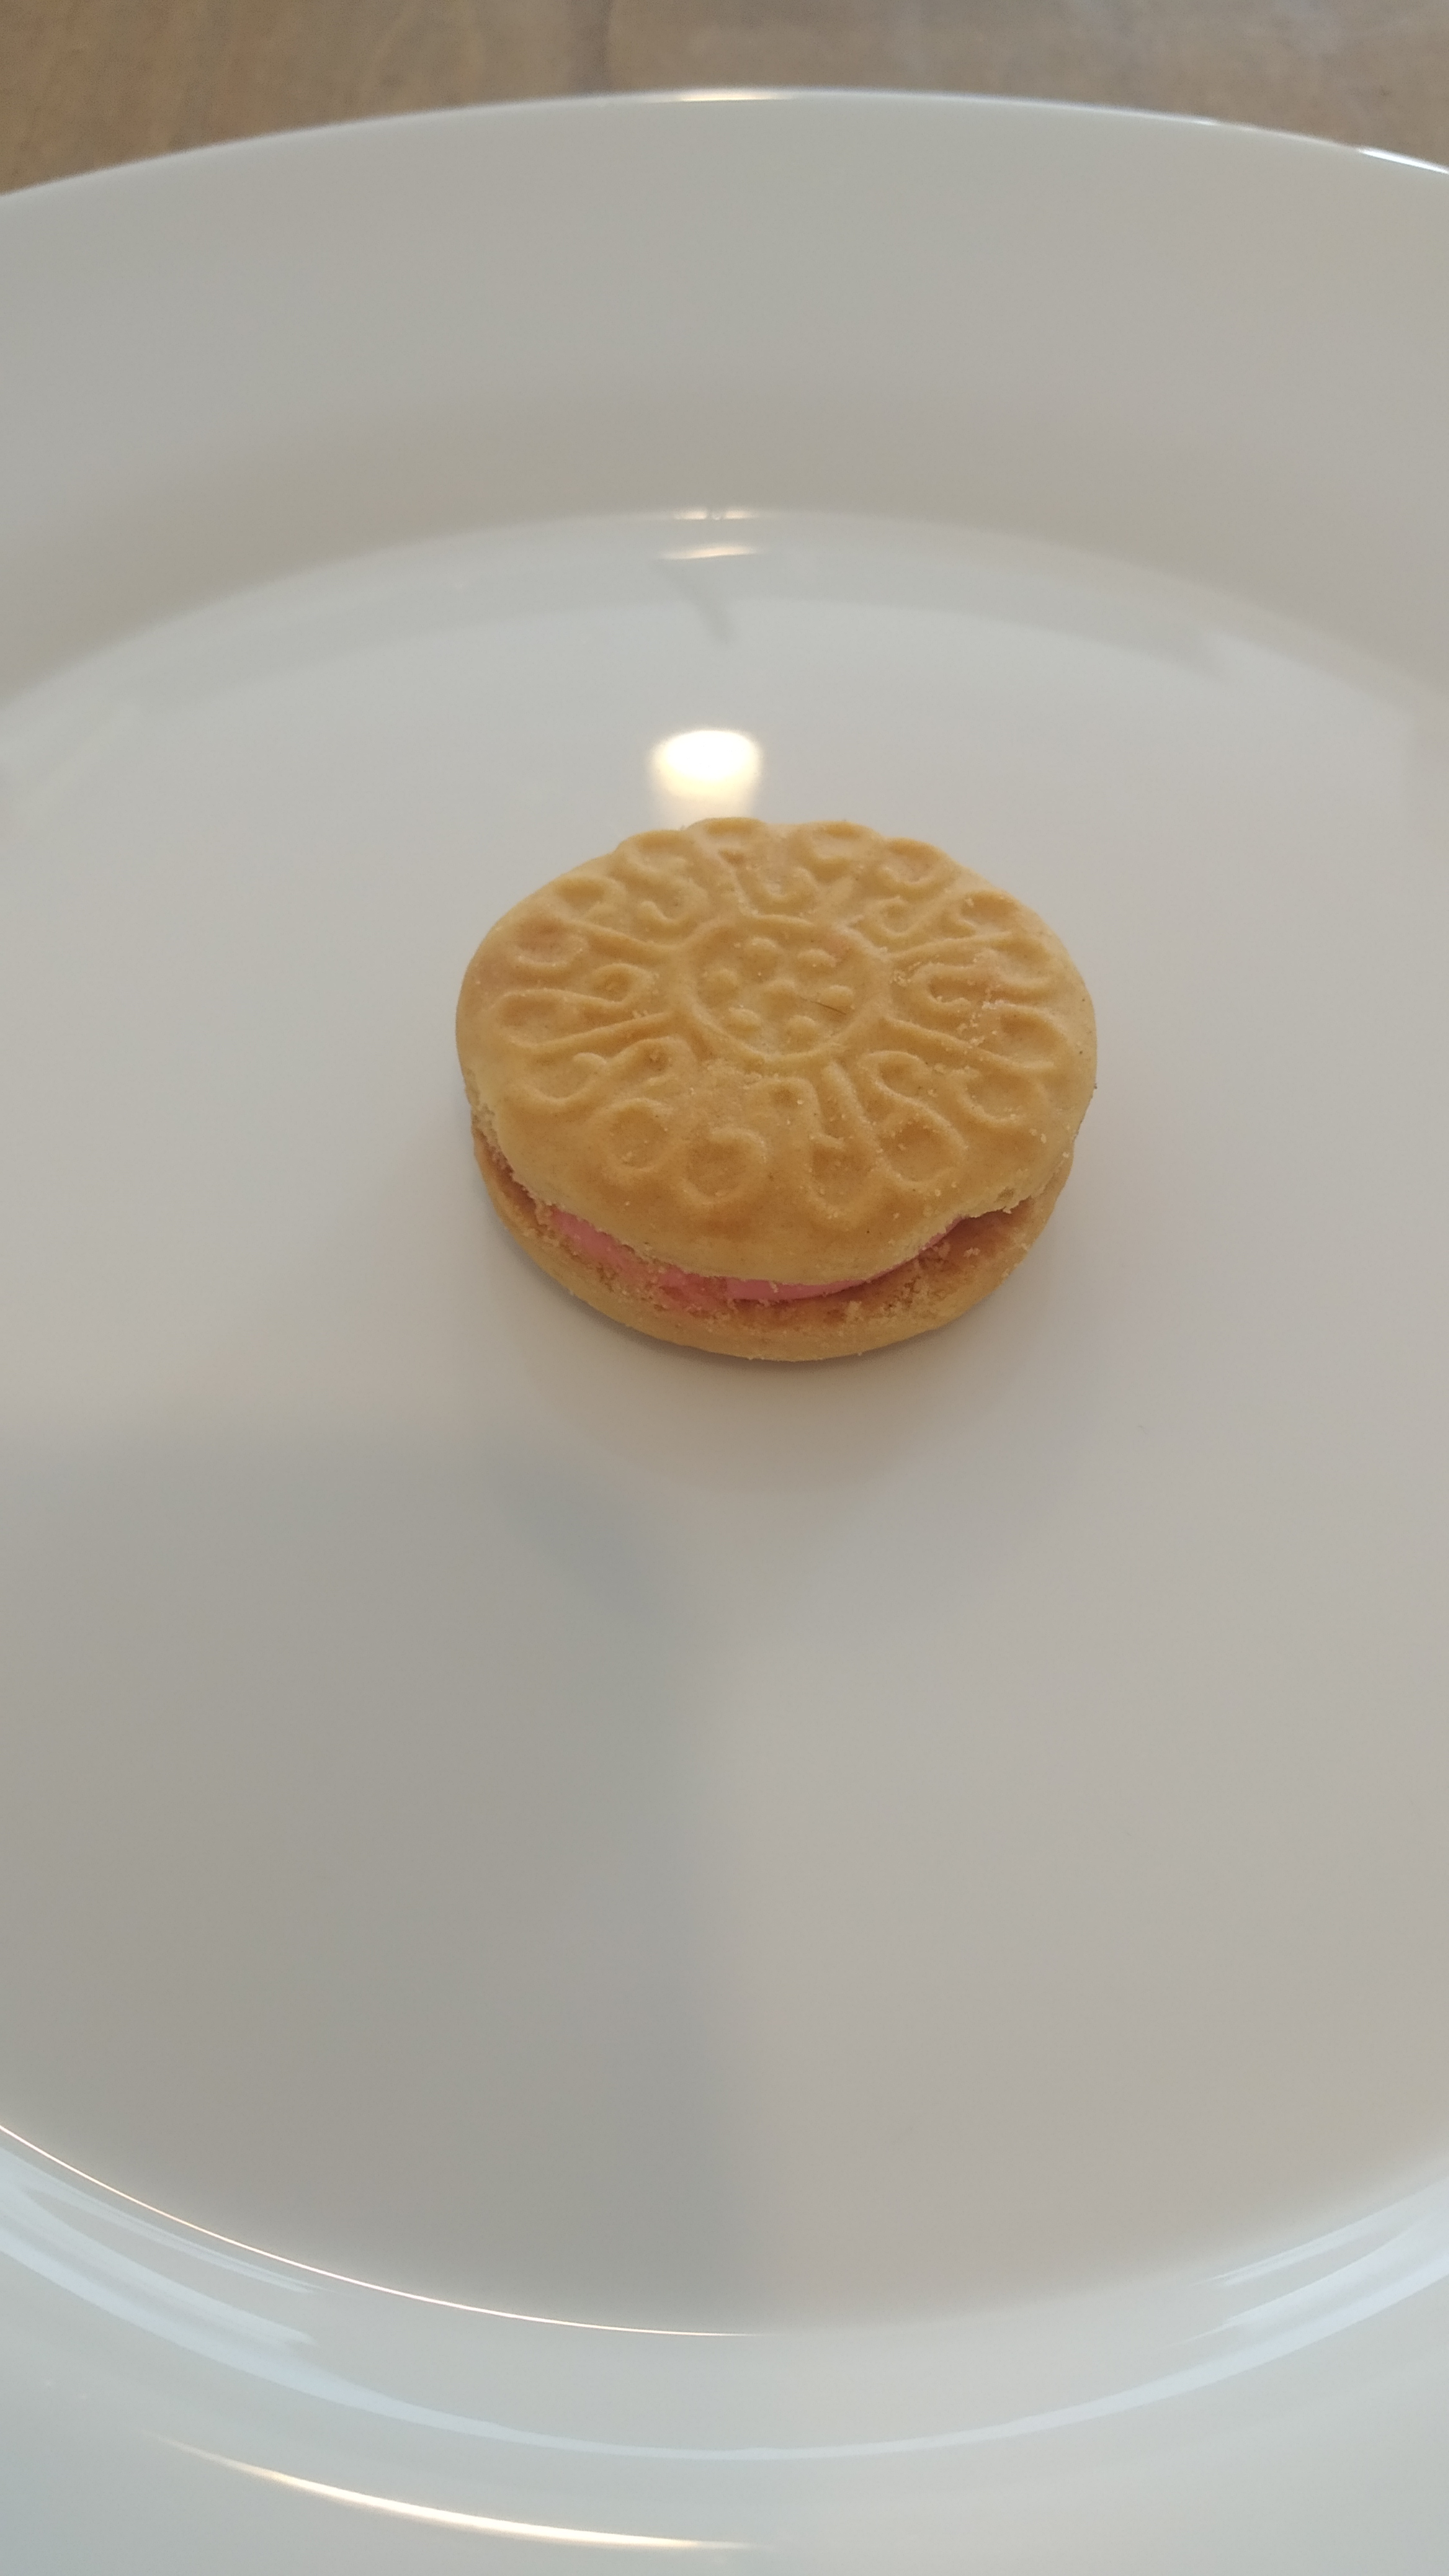lulu: (460, 819, 1099, 1362)
